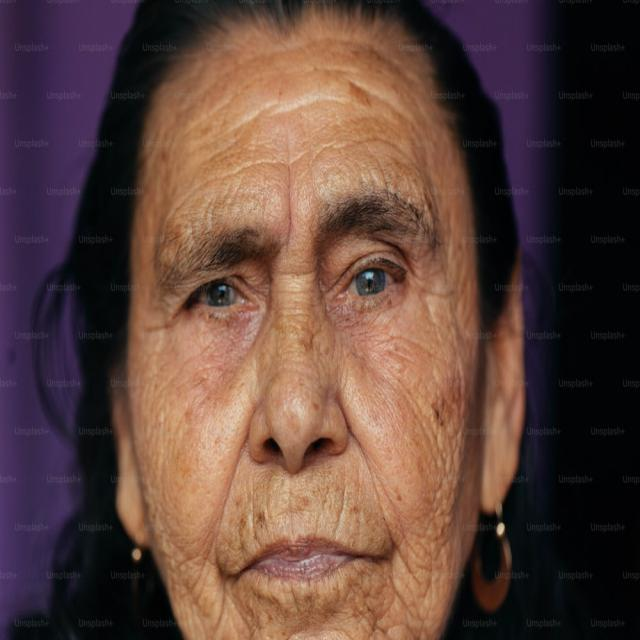Hyperpigmentation: (243, 575, 386, 631), (223, 497, 266, 557), (430, 388, 461, 431), (351, 78, 372, 110), (296, 487, 313, 513), (299, 327, 316, 351), (347, 503, 366, 519)
Wrinkles: (141, 26, 463, 259), (353, 265, 478, 598), (139, 329, 228, 639)
